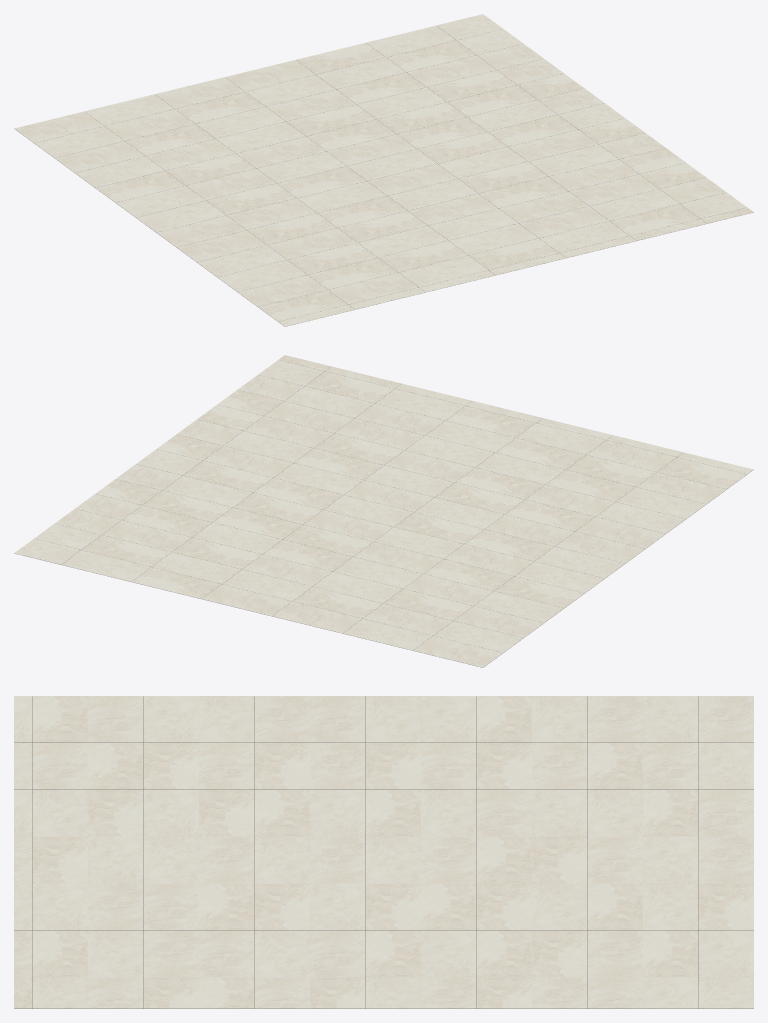
Rendered from alba-60x120.glb.
The picture shows the model from 3 angles, top to bottom: view 1: azimuth 30°, elevation 25°; view 2: azimuth 150°, elevation 25°; view 3: azimuth 270°, elevation 25°; orthographic projection. The views are drawn at different scales.
Visible parts, largest first — view 1: Alba; view 2: Alba; view 3: Alba.
Boxes of the visible parts, x1,y1,x2,y2 form: Alba: (14, 14, 753, 326); Alba: (14, 355, 753, 667); Alba: (14, 696, 753, 1008).
Size of the model in its own units: 8 by 0.003 by 8.
2 materials, 1 textured.
